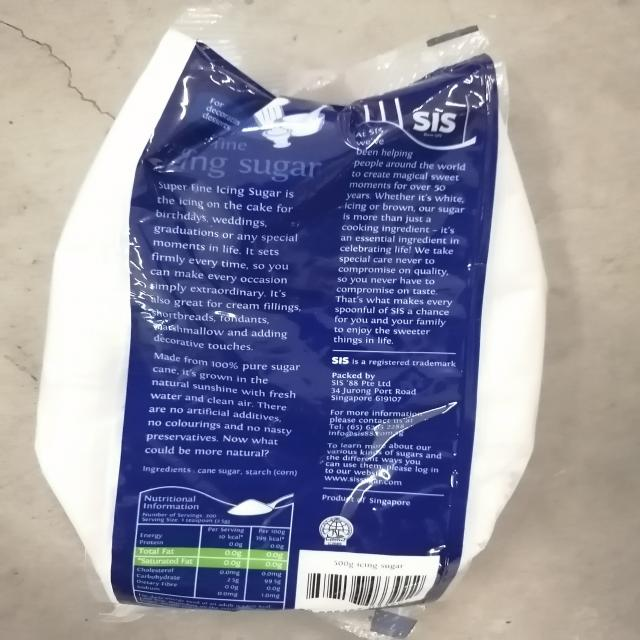object_name: (70, 37, 530, 608)
